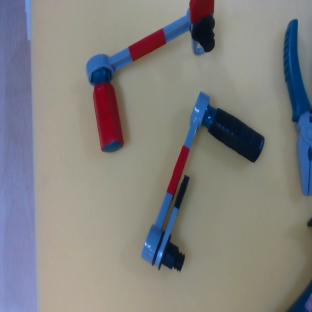non_pass: (136, 92, 273, 288)
